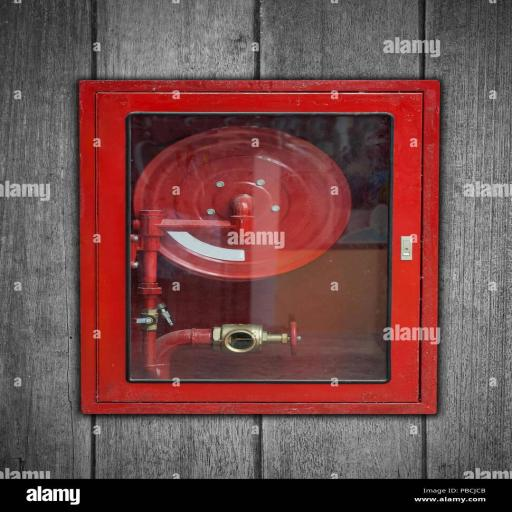fire_hose: (76, 75, 440, 419)
